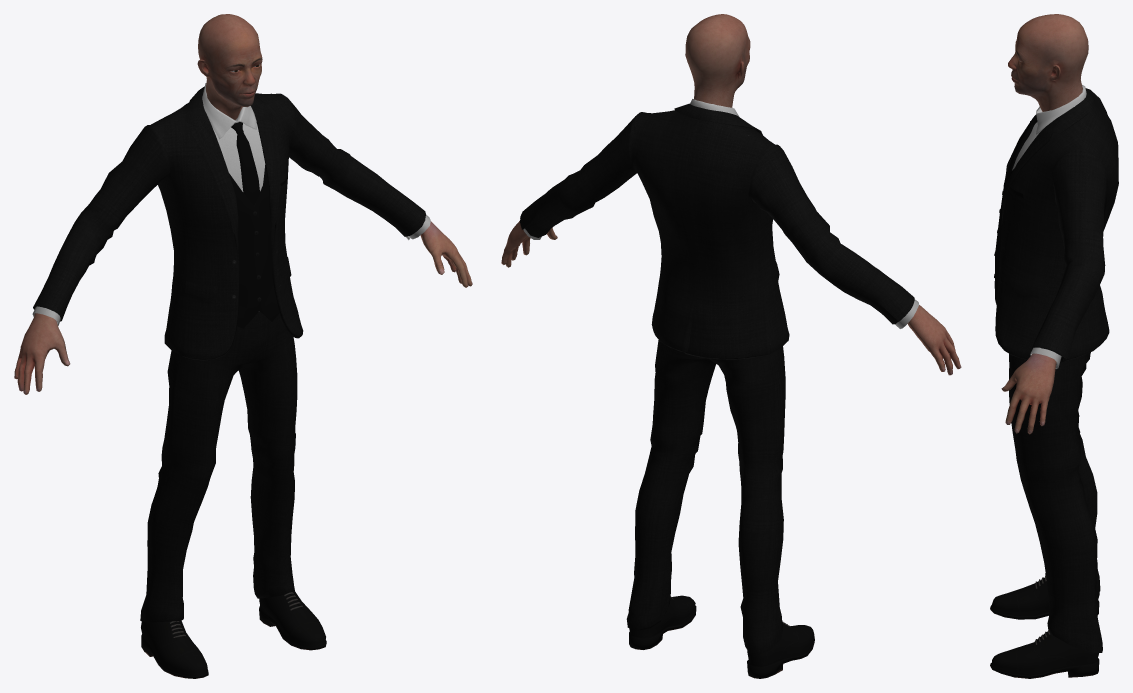
The model's file is Henry.fbx.
3 views of the same model, side by side, from view 1: azimuth 30°, elevation 25°; view 2: azimuth 150°, elevation 25°; view 3: azimuth 270°, elevation 25° (orthographic).
Visible parts, largest first — view 1: Henry_Upperbody, Henry_Lowerbody, Henry_Body; view 2: Henry_Upperbody, Henry_Lowerbody, Henry_Body; view 3: Henry_Upperbody, Henry_Lowerbody, Henry_Body.
Boxes of the visible parts, x1,y1,x2,y2 form: Henry_Upperbody: (32, 83, 430, 360); Henry_Lowerbody: (140, 311, 326, 678); Henry_Body: (14, 14, 472, 394); Henry_Upperbody: (520, 99, 919, 359); Henry_Lowerbody: (626, 340, 814, 678); Henry_Body: (501, 14, 961, 375); Henry_Upperbody: (994, 85, 1118, 368); Henry_Lowerbody: (990, 352, 1102, 678); Henry_Body: (1001, 14, 1088, 434).
Bounding box in the file's own units: 138 × 185 × 34.46.
3 materials, 3 textured.
